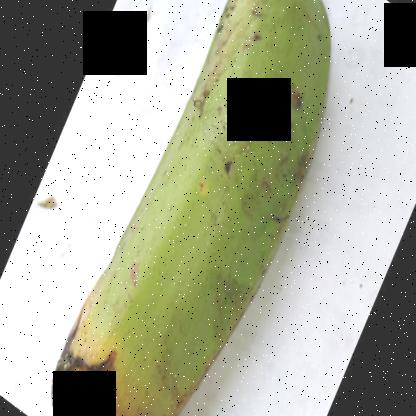rotten: (30, 253, 235, 415)
unripe: (124, 1, 335, 362)
